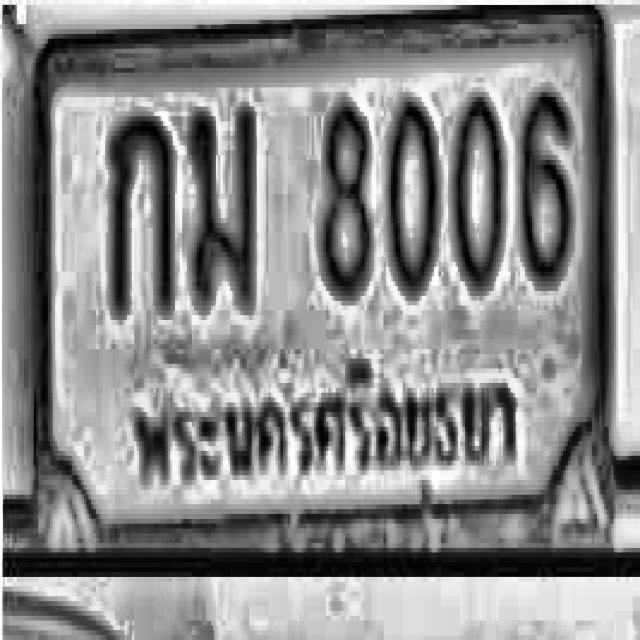license-plate: (34, 0, 620, 550)
